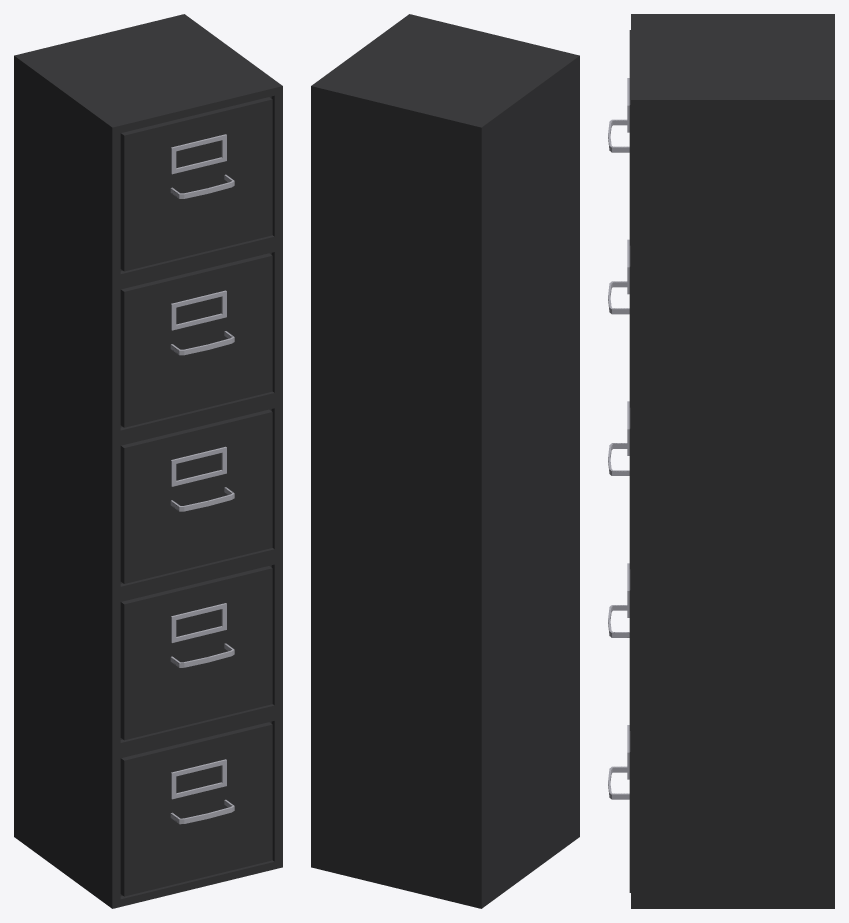
The model's file is Filing Cabinet 5.fbx.
3 renders of one model, left to right at view 1: azimuth 30°, elevation 25°; view 2: azimuth 150°, elevation 25°; view 3: azimuth 270°, elevation 25°, orthographic. The views are drawn at different scales.
Visible parts, largest first — view 1: Filing Cabinet 5; view 2: Filing Cabinet 5; view 3: Filing Cabinet 5.
Boxes of the visible parts, x1,y1,x2,y2 form: Filing Cabinet 5: (14, 14, 282, 908); Filing Cabinet 5: (311, 14, 579, 908); Filing Cabinet 5: (608, 14, 834, 908).
Size of the model in its own units: 50 by 219 by 55.65.
Materials: 1 (1 with a texture image).
